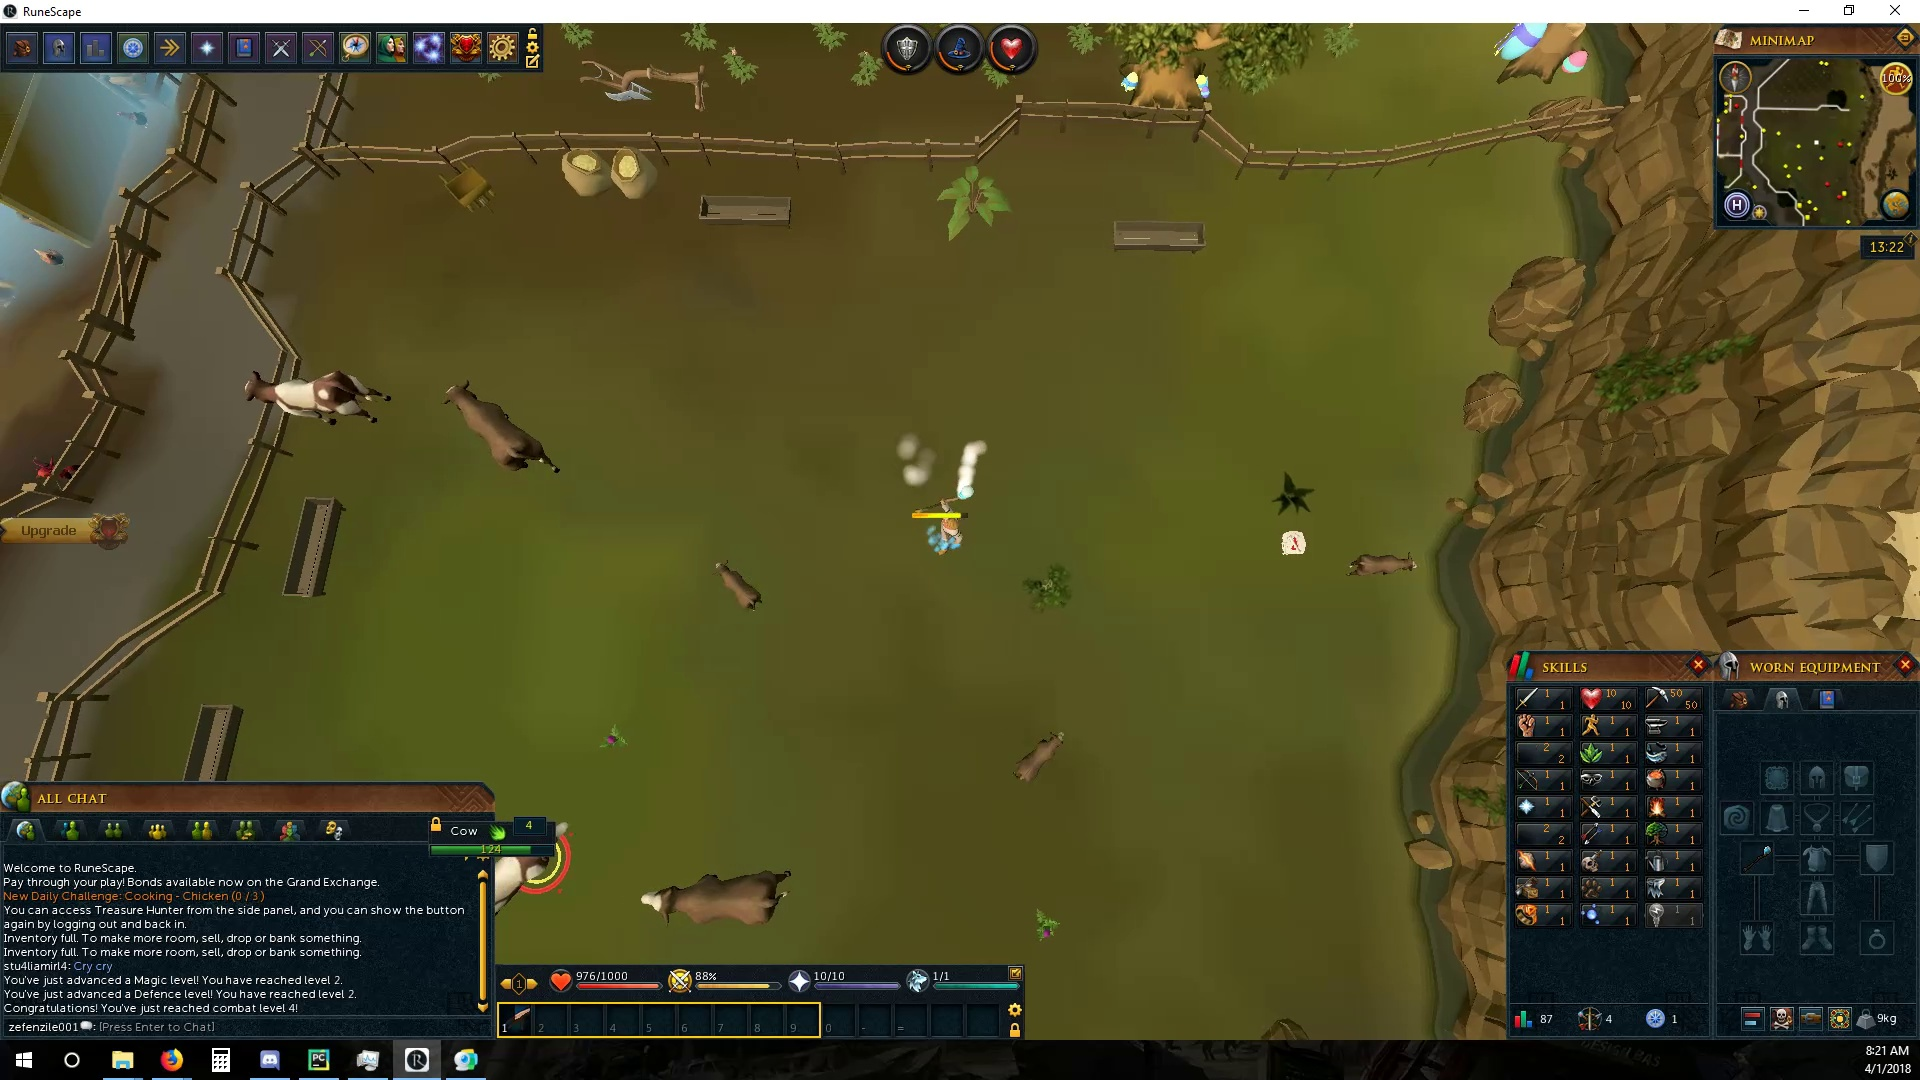calf: (1011, 728, 1069, 787), (712, 559, 765, 615), (1349, 550, 1422, 582)
cow: (443, 376, 564, 480), (239, 364, 396, 429), (634, 865, 795, 923)
cow_drop: (1275, 524, 1308, 559)
